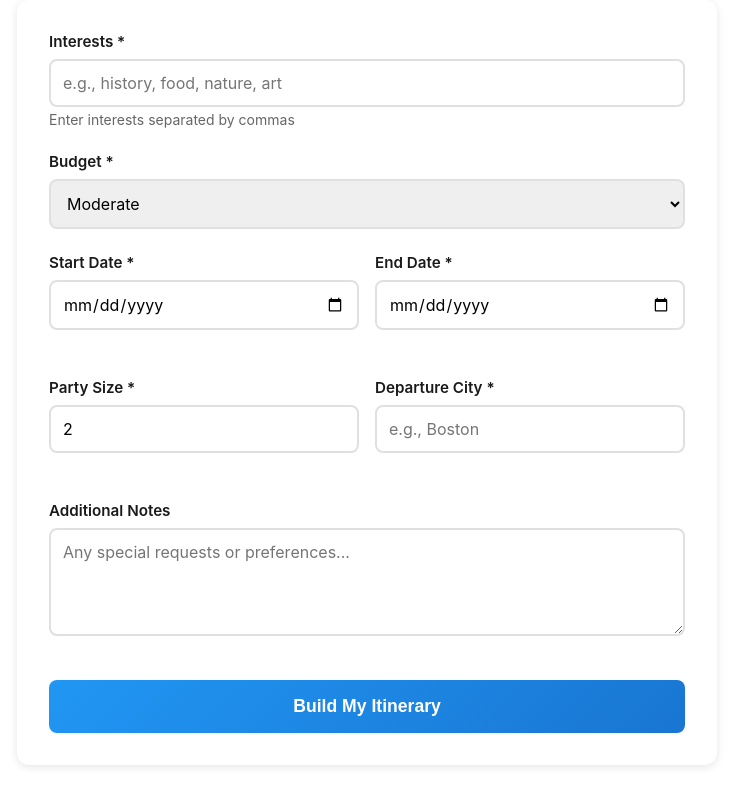
Scenario: CustomerForm › should show validation error when interests is empty
The image size is (735, 800).
Type "2026-07-01" into the date field labelled "Start Date *" at (204, 305), box left=49, top=280, right=359, bottom=330
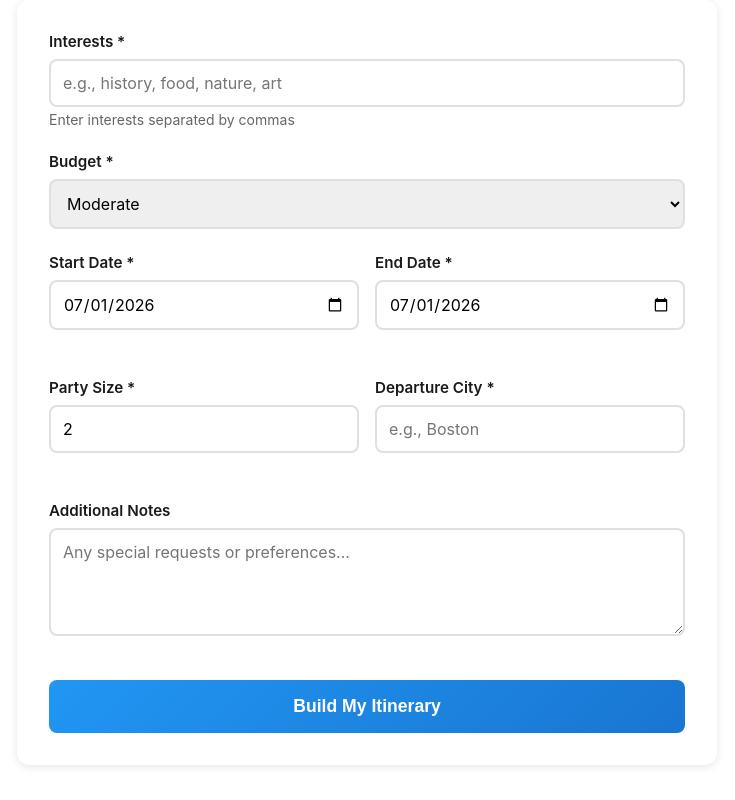
Type "2026-07-15" into the date field labelled "End Date *" at (530, 305), box left=375, top=280, right=685, bottom=330
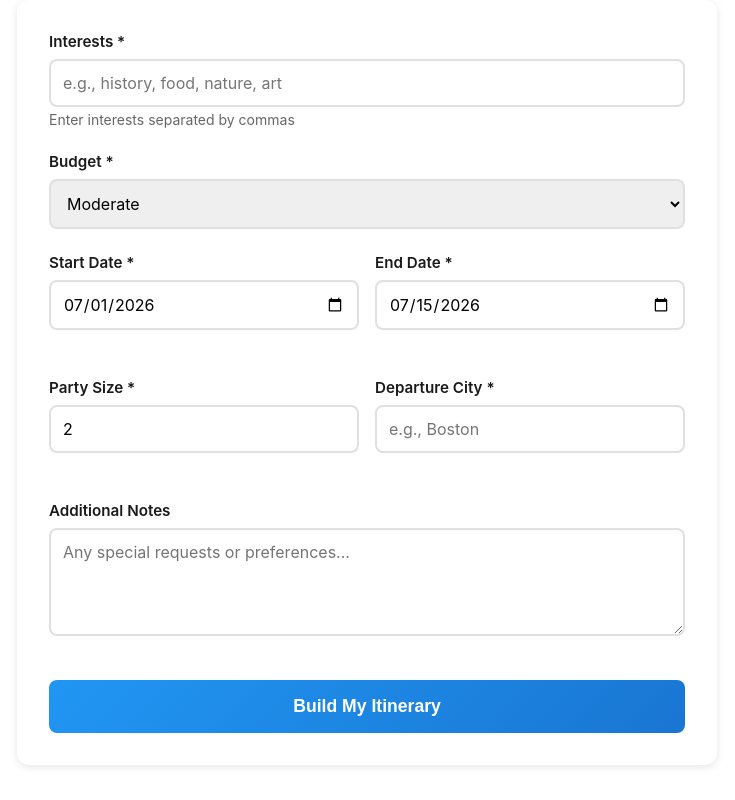
Type "Boston" into the field labelled "Departure City *" at (530, 429), box left=375, top=405, right=685, bottom=453
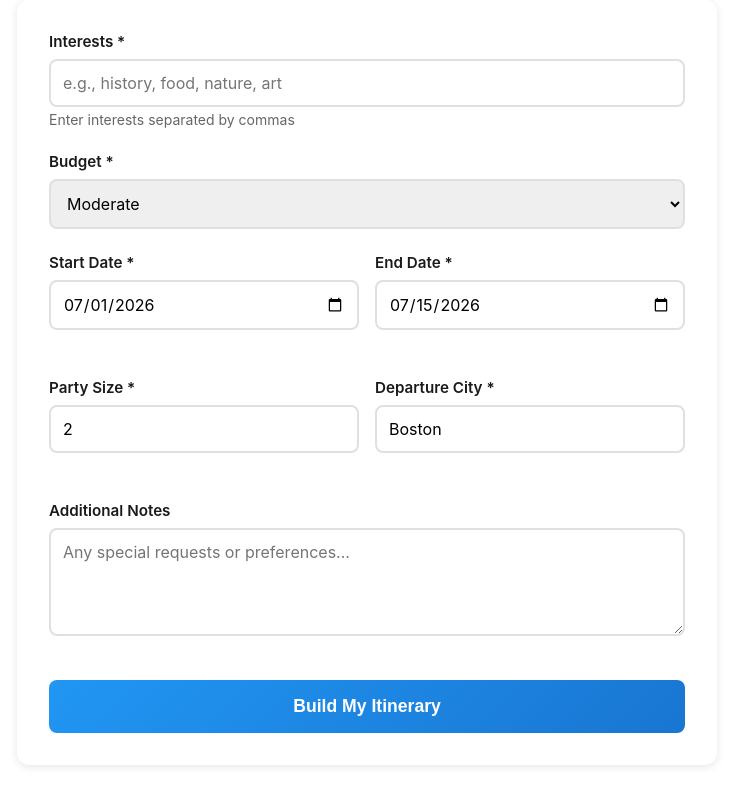
Click the button "Build My Itinerary" at (367, 706), box left=49, top=680, right=685, bottom=733
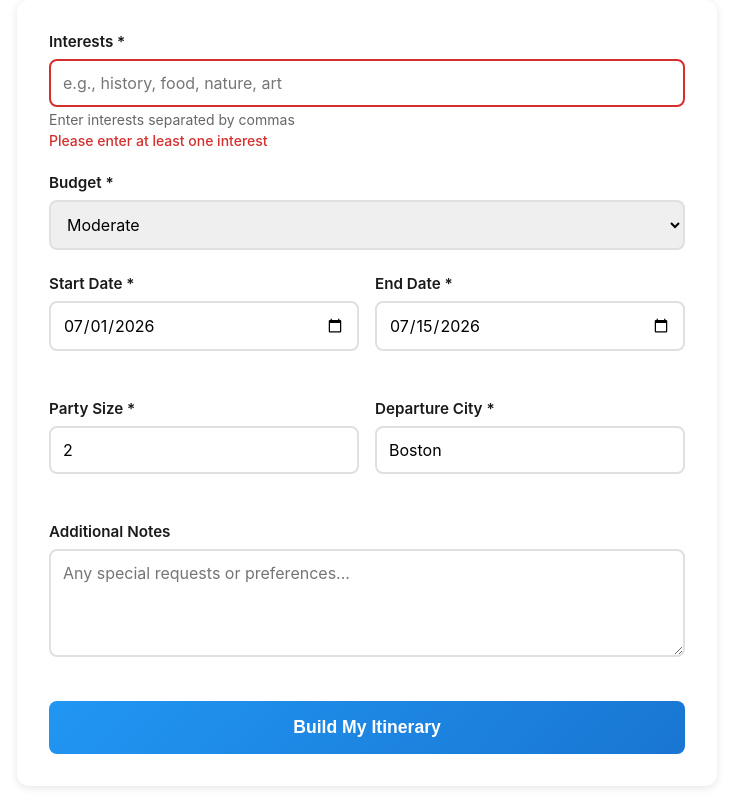
expect the text "Please enter at least one interest" is shown: met, box left=49, top=132, right=268, bottom=149
